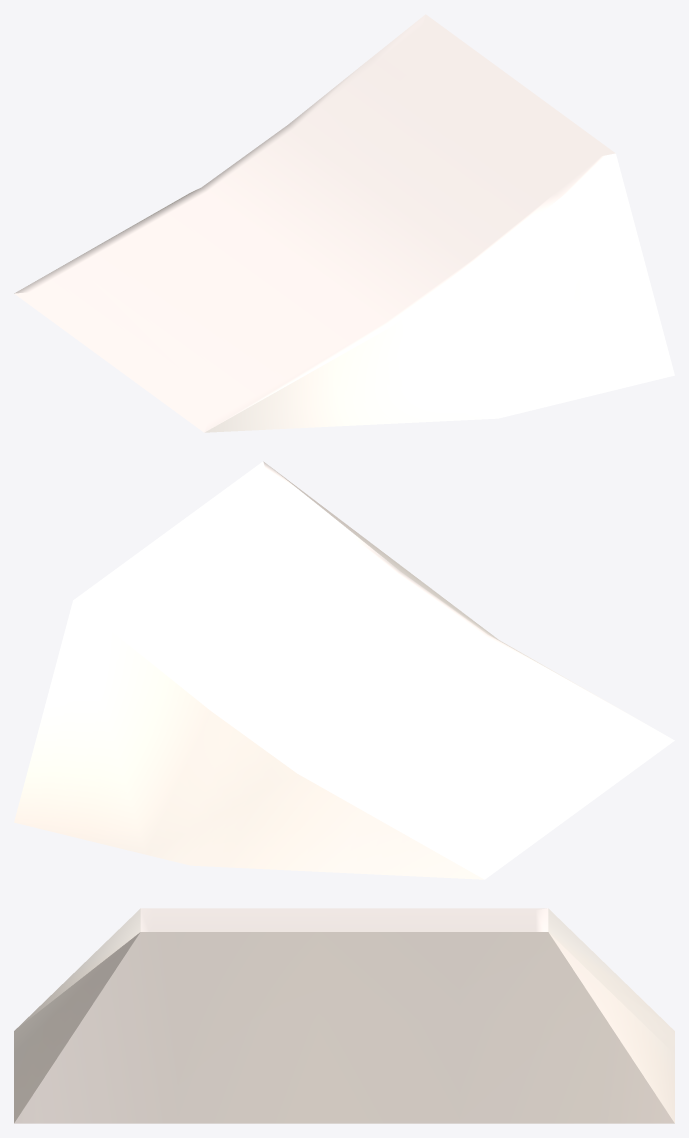
Rendered from SnowmobileTrackJump.glb.
3 renders of one model, top to bottom at view 1: azimuth 30°, elevation 25°; view 2: azimuth 150°, elevation 25°; view 3: azimuth 270°, elevation 25°, orthographic. The views are drawn at different scales.
Visible parts, largest first — view 1: SnowmobileTrackJump; view 2: SnowmobileTrackJump; view 3: SnowmobileTrackJump.
Part boxes in pixels (x1=…): SnowmobileTrackJump: x1=14, y1=14, x2=674, y2=432; SnowmobileTrackJump: x1=14, y1=461, x2=674, y2=879; SnowmobileTrackJump: x1=14, y1=908, x2=674, y2=1123.
Size of the model in its own units: 5 by 2.08 by 6.49.
Materials: 1 (1 with a texture image).
